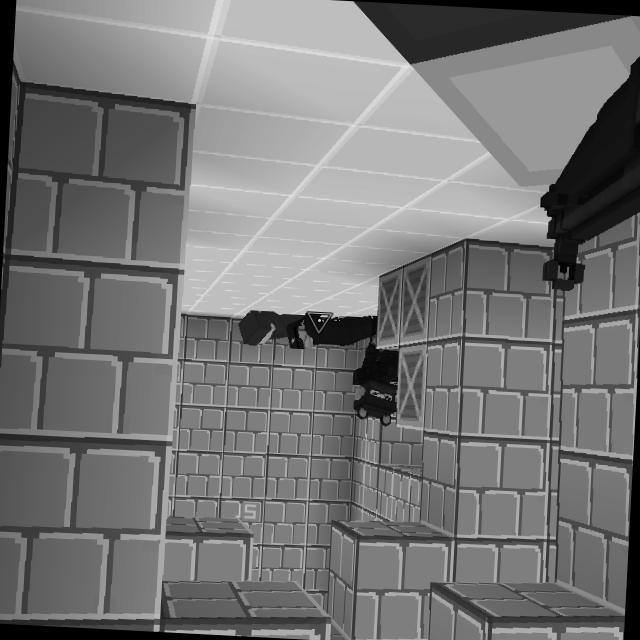enemy: (349, 313, 402, 428)
